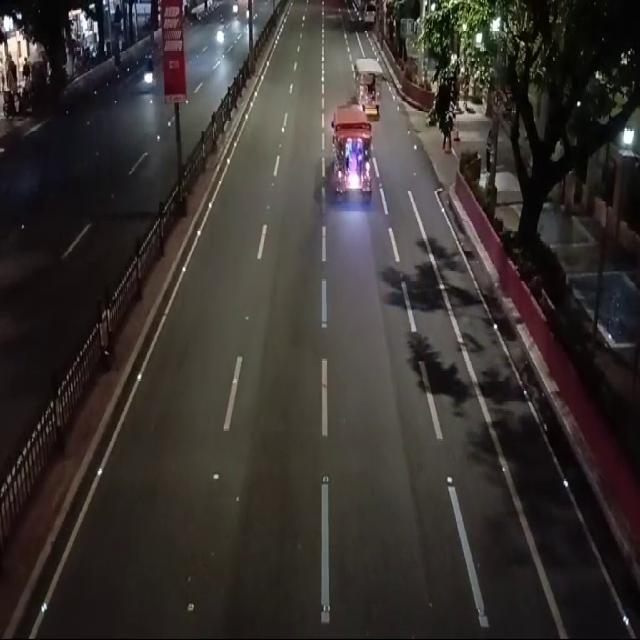jeepney: (328, 101, 376, 211), (354, 44, 384, 118)
